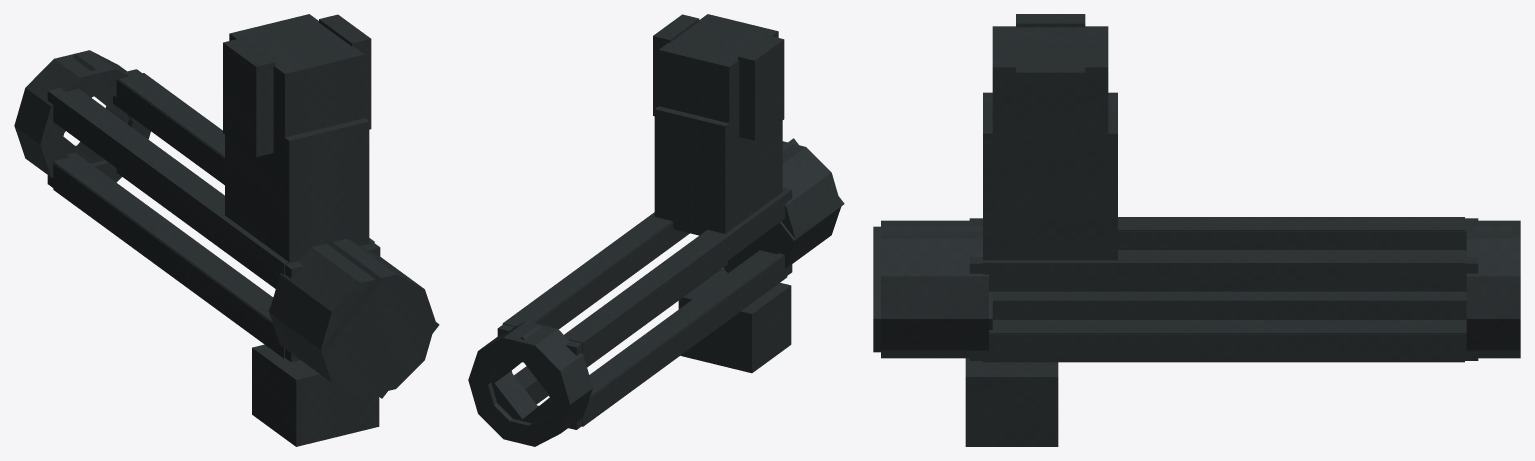
Rendered from m14_muzzle.glb.
3 renders of one model, left to right at view 1: azimuth 30°, elevation 25°; view 2: azimuth 150°, elevation 25°; view 3: azimuth 270°, elevation 25°, orthographic. The views are drawn at different scales.
Visible parts, largest first — view 1: muzzle__m14_muzzle_LOD0_RAID_Secondary_Original_steel, muzzle__m14_muzzle_LOD1_RAID_Secondary_Original_steel; view 2: muzzle__m14_muzzle_LOD0_RAID_Secondary_Original_steel, muzzle__m14_muzzle_LOD1_RAID_Secondary_Original_steel; view 3: muzzle__m14_muzzle_LOD0_RAID_Secondary_Original_steel, muzzle__m14_muzzle_LOD1_RAID_Secondary_Original_steel.
Part boxes in pixels (box(x1,y1,x2,y2)): muzzle__m14_muzzle_LOD0_RAID_Secondary_Original_steel: box(14, 14, 435, 446); muzzle__m14_muzzle_LOD1_RAID_Secondary_Original_steel: box(47, 14, 439, 398); muzzle__m14_muzzle_LOD0_RAID_Secondary_Original_steel: box(468, 14, 841, 446); muzzle__m14_muzzle_LOD1_RAID_Secondary_Original_steel: box(491, 14, 844, 429); muzzle__m14_muzzle_LOD0_RAID_Secondary_Original_steel: box(881, 14, 1520, 446); muzzle__m14_muzzle_LOD1_RAID_Secondary_Original_steel: box(873, 26, 1512, 360).
Bounding box in the file's own units: 0.036 × 0.1095 × 0.168.
Materials: 1 (1 with a texture image).
